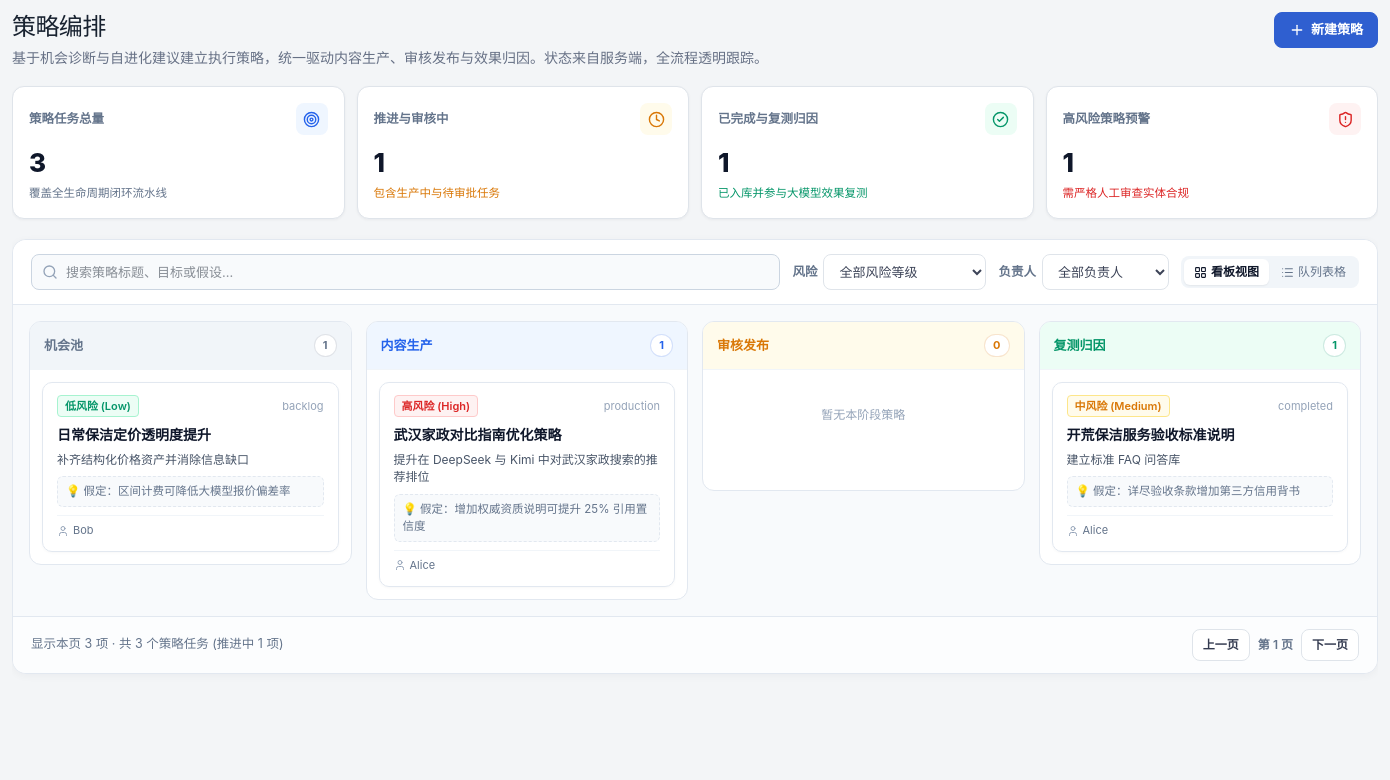
StrategyView Component Redesign › filters strategies by search keyword and risk level
Expected: the heading "武汉家政对比指南优化策略" is shown, [394,426,562,443]
Expected: the heading "日常保洁定价透明度提升" is shown, [57,426,211,443]
Filter by search
In the field with placeholder "搜索策略标题、目标或假设…": (406,272) [31,254,780,290], type "保洁定价"
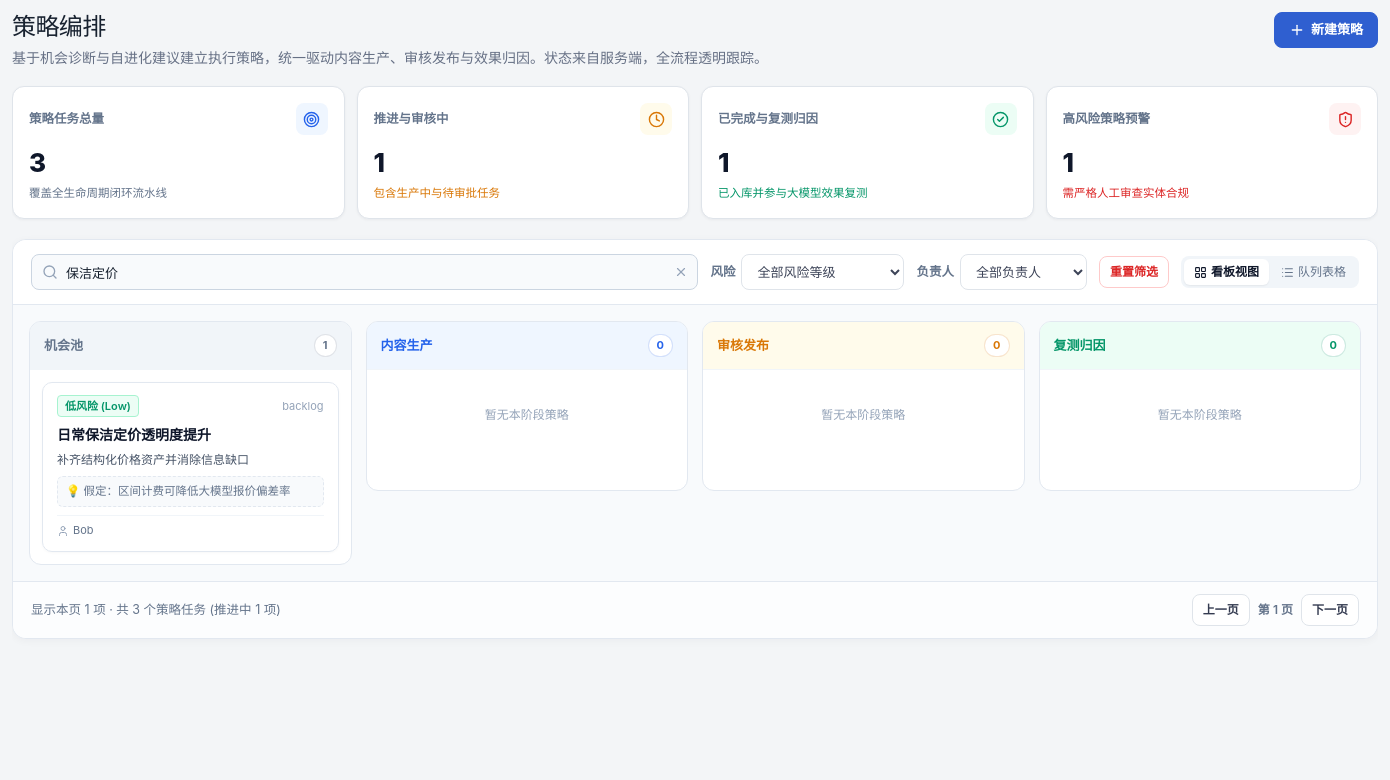
Expected: the heading "日常保洁定价透明度提升" is shown, [57,426,211,443]
Result: the heading "武汉家政对比指南优化策略" is gone
Reset search
Clear the field with placeholder "搜索策略标题、目标或假设…": (365,272) [31,254,698,290]
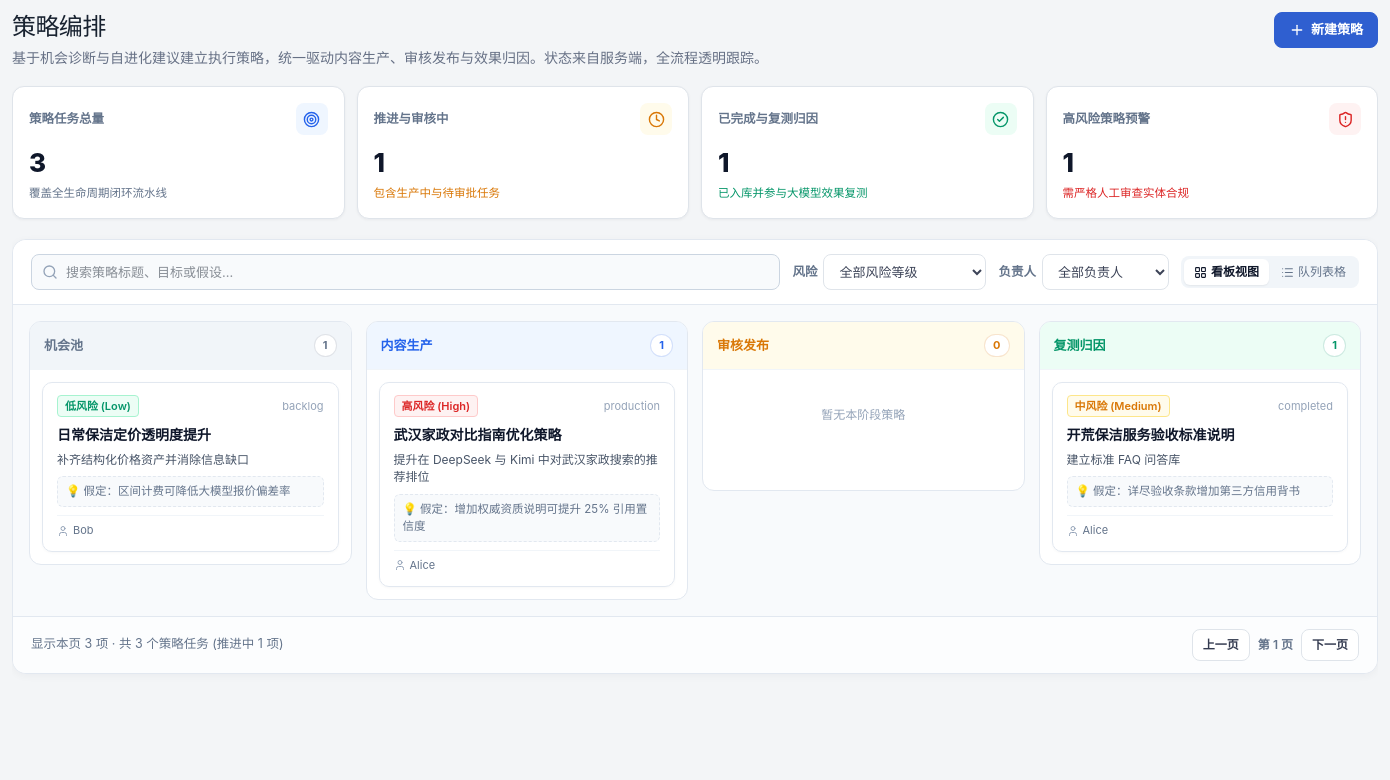
Filter by risk
Select "高风险 (high)" in the dropdown named "风险等级": (905,272) [824,254,986,290]
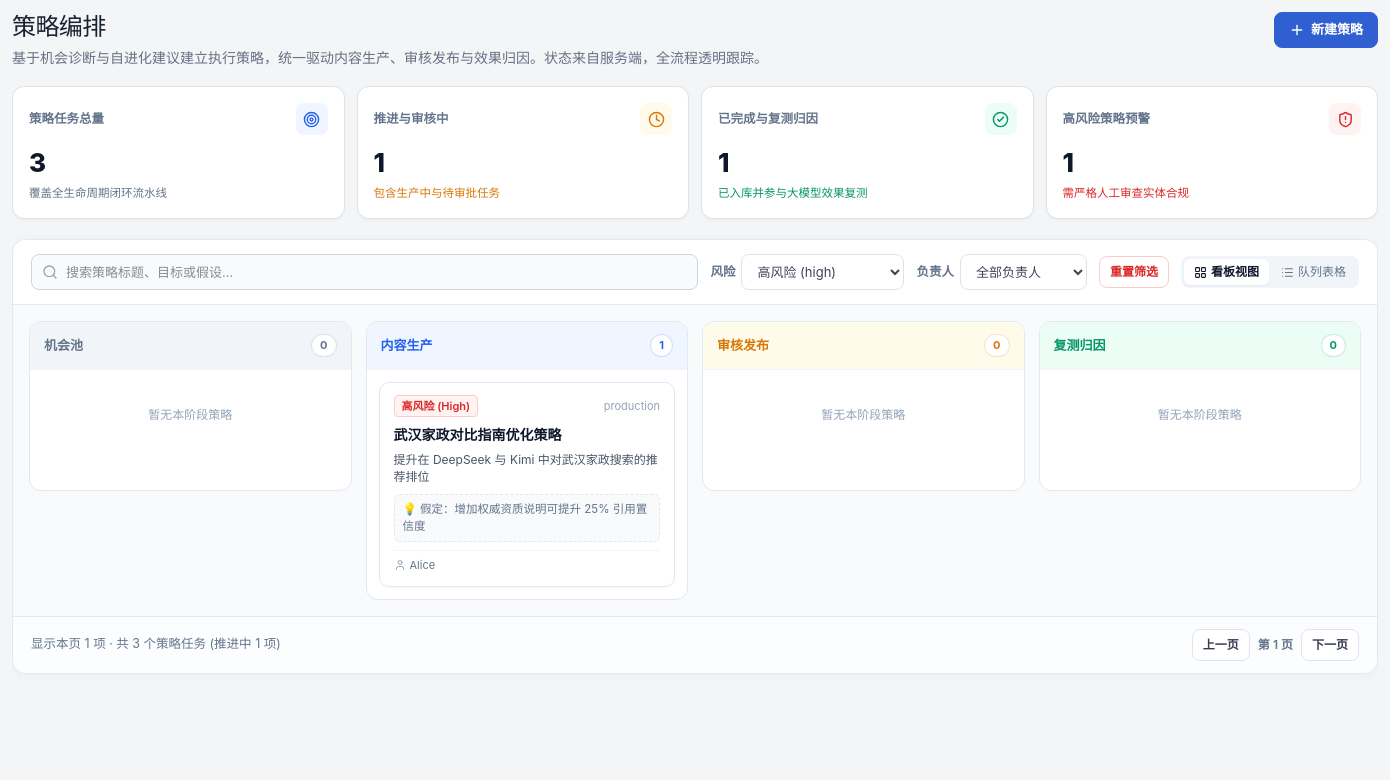
Result: the heading "武汉家政对比指南优化策略" is shown at [394,426,562,443]
Result: the heading "日常保洁定价透明度提升" is gone
